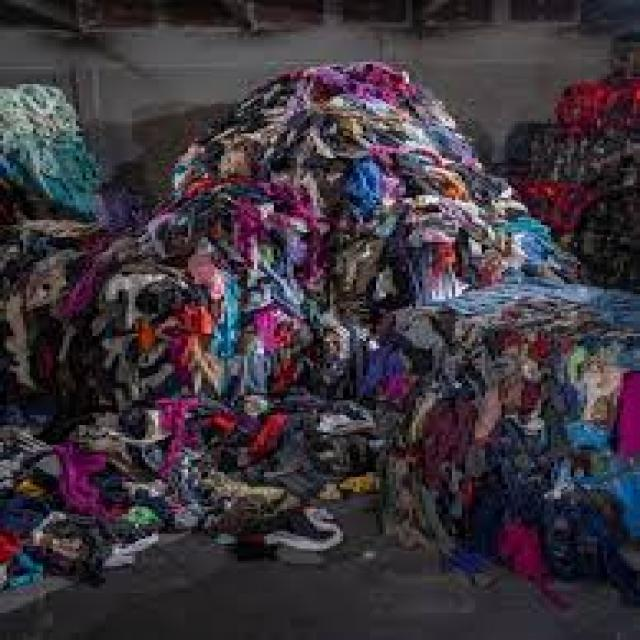Clothes -Biodegradable-: (0, 39, 640, 586)
